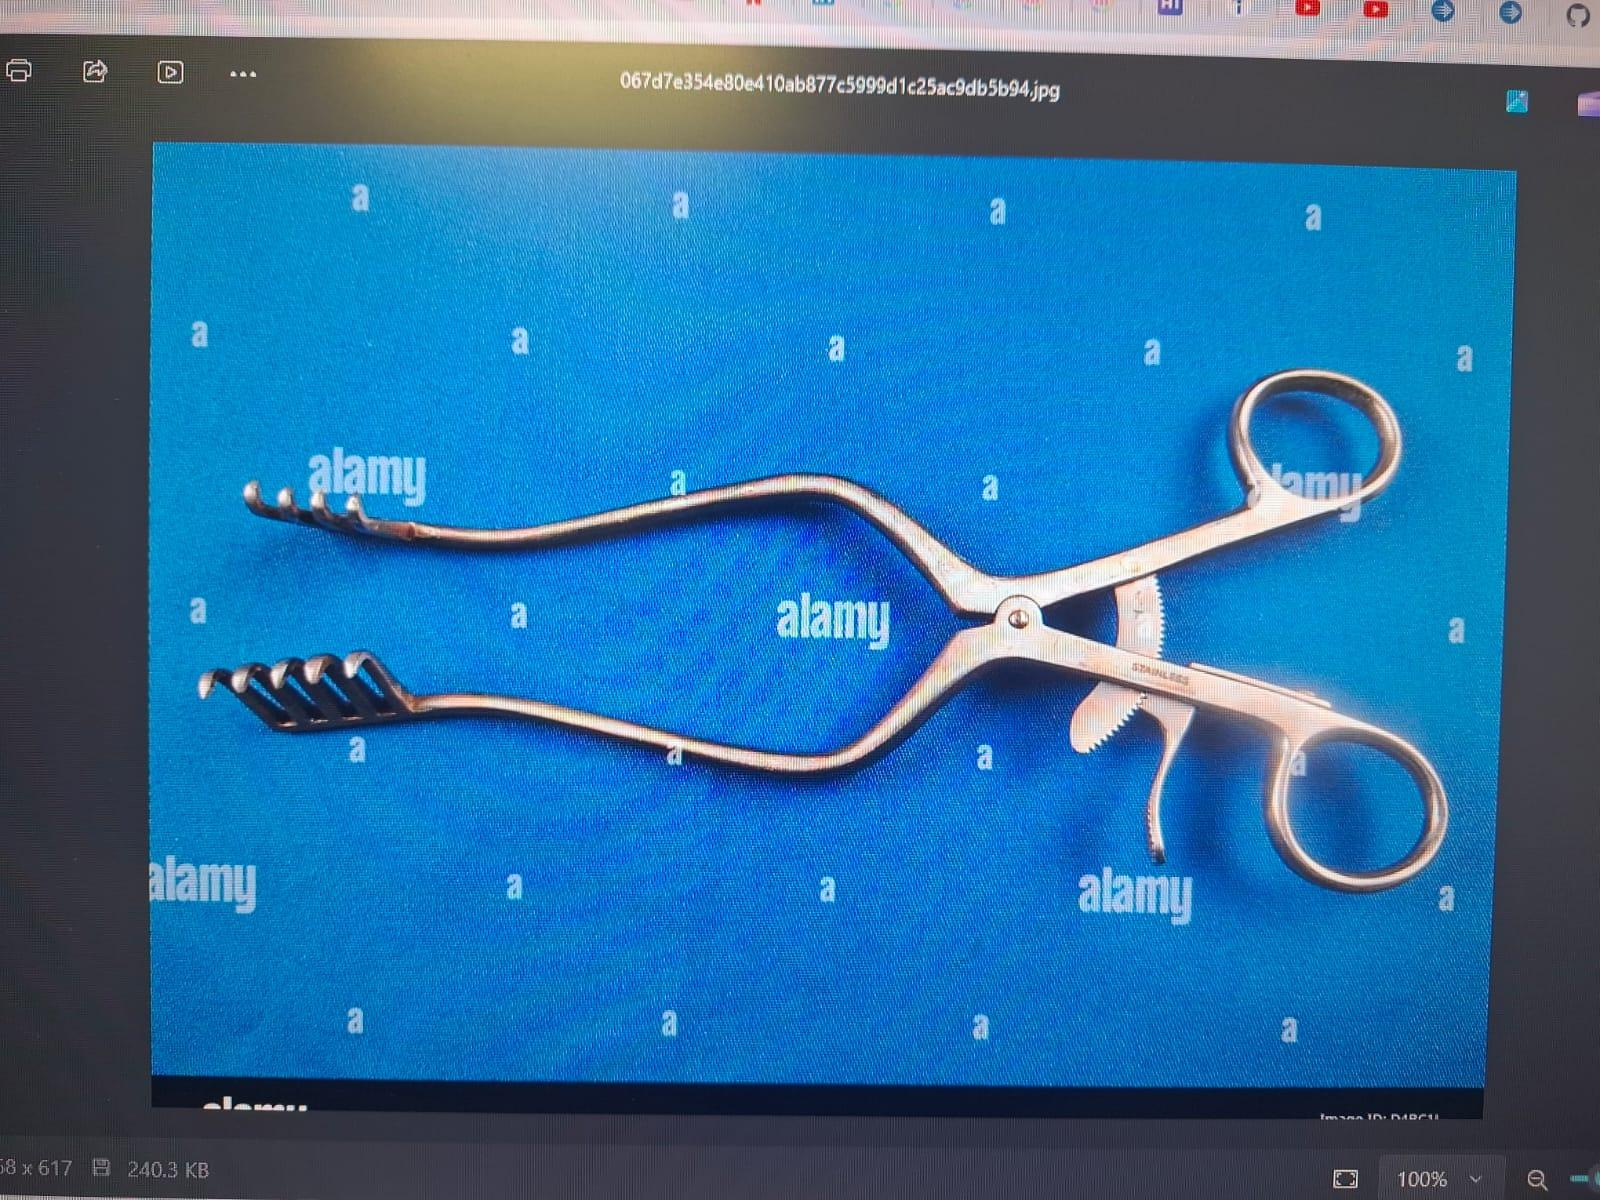Self Retractor: (174, 362, 1453, 882)
